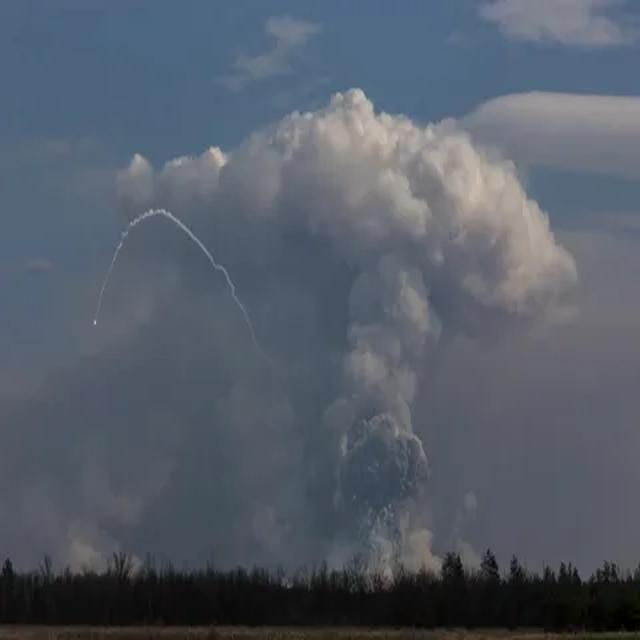Smoke: (118, 91, 580, 558)
